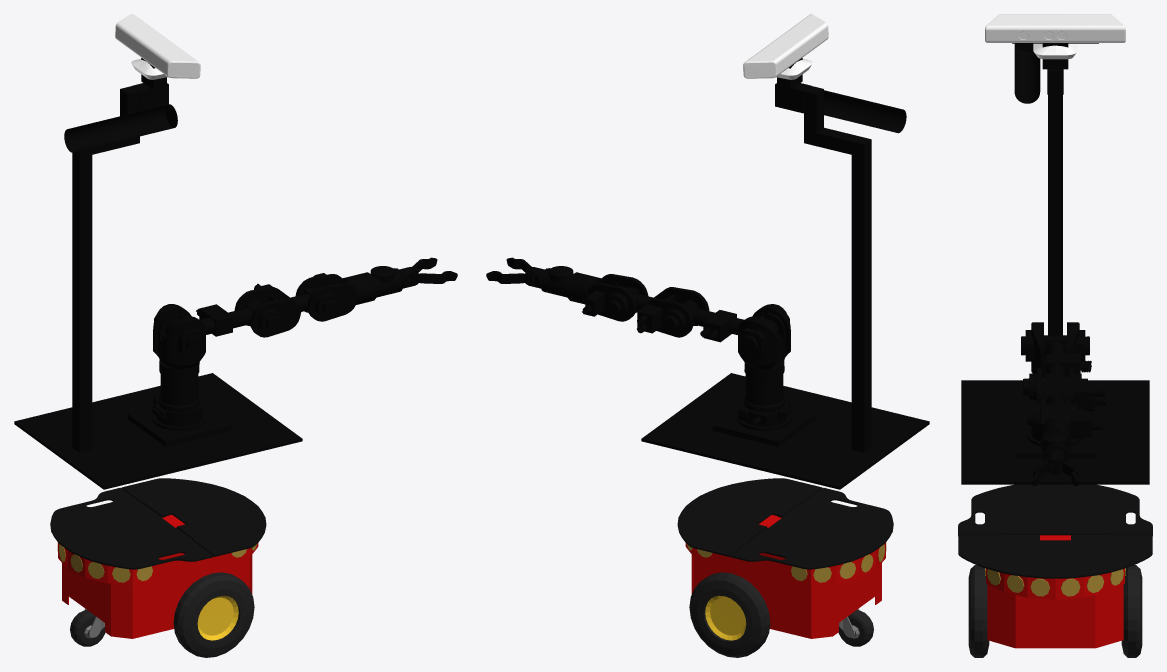
The model's file is kurtana.dae.
The picture shows the model from 3 angles, left to right: view 1: azimuth 30°, elevation 25°; view 2: azimuth 150°, elevation 25°; view 3: azimuth 270°, elevation 25°; orthographic projection. The views are drawn at different scales.
Visible parts, largest first — view 1: top_plate, kurtana_baseplate_link, base_link, kurtana_pole_link, right_wheel_joint, kinect_link, katana_base_link, kurtana_microphone_link, katana_motor1_pan_link, katana_motor4_lift_link, katana_motor3_lift_link, katana_baseplate_link (+6 smaller); view 2: top_plate, kurtana_baseplate_link, base_link, kurtana_pole_link, left_wheel_joint, kinect_link, katana_base_link, katana_motor4_lift_link, katana_motor1_pan_link, katana_motor3_lift_link, kurtana_microphone_link, katana_baseplate_link (+8 smaller); view 3: top_plate, kurtana_baseplate_link, base_link, kinect_link, kurtana_pole_link, katana_motor3_lift_link, katana_motor4_lift_link, left_wheel_joint, right_wheel_joint, katana_motor1_pan_link, katana_motor2_lift_link, kurtana_microphone_link (+5 smaller).
Boxes of the visible parts, <box> form: top_plate: <box>50,478,266,569</box>; kurtana_baseplate_link: <box>14,373,302,489</box>; base_link: <box>58,515,258,638</box>; kurtana_pole_link: <box>72,148,92,452</box>; right_wheel_joint: <box>173,572,254,657</box>; kinect_link: <box>115,14,200,79</box>; katana_base_link: <box>152,360,206,430</box>; kurtana_microphone_link: <box>64,104,177,152</box>; katana_motor1_pan_link: <box>153,304,205,369</box>; katana_motor4_lift_link: <box>295,272,376,321</box>; katana_motor3_lift_link: <box>234,283,317,337</box>; katana_baseplate_link: <box>127,404,231,446</box>; top_plate: <box>677,478,893,569</box>; kurtana_baseplate_link: <box>641,373,929,489</box>; base_link: <box>685,515,885,638</box>; kurtana_pole_link: <box>851,136,871,452</box>; left_wheel_joint: <box>689,572,770,657</box>; kinect_link: <box>743,14,828,79</box>; katana_base_link: <box>737,360,791,430</box>; katana_motor4_lift_link: <box>567,272,648,321</box>; katana_motor1_pan_link: <box>738,304,790,369</box>; katana_motor3_lift_link: <box>626,287,709,337</box>; kurtana_microphone_link: <box>824,90,906,133</box>; katana_baseplate_link: <box>712,404,816,446</box>; top_plate: <box>958,484,1152,578</box>; kurtana_baseplate_link: <box>961,380,1149,484</box>; base_link: <box>986,535,1124,648</box>; kinect_link: <box>985,14,1125,59</box>; kurtana_pole_link: <box>1048,111,1062,335</box>; katana_motor3_lift_link: <box>1023,367,1106,416</box>; katana_motor4_lift_link: <box>1027,397,1103,450</box>; left_wheel_joint: <box>1121,565,1142,657</box>; right_wheel_joint: <box>968,565,989,657</box>; katana_motor1_pan_link: <box>1021,322,1089,376</box>; katana_motor2_lift_link: <box>1041,335,1091,384</box>; kurtana_microphone_link: <box>1014,43,1040,103</box>.
Bounding box in the file's own units: 0.9243 × 0.3812 × 1.35.
